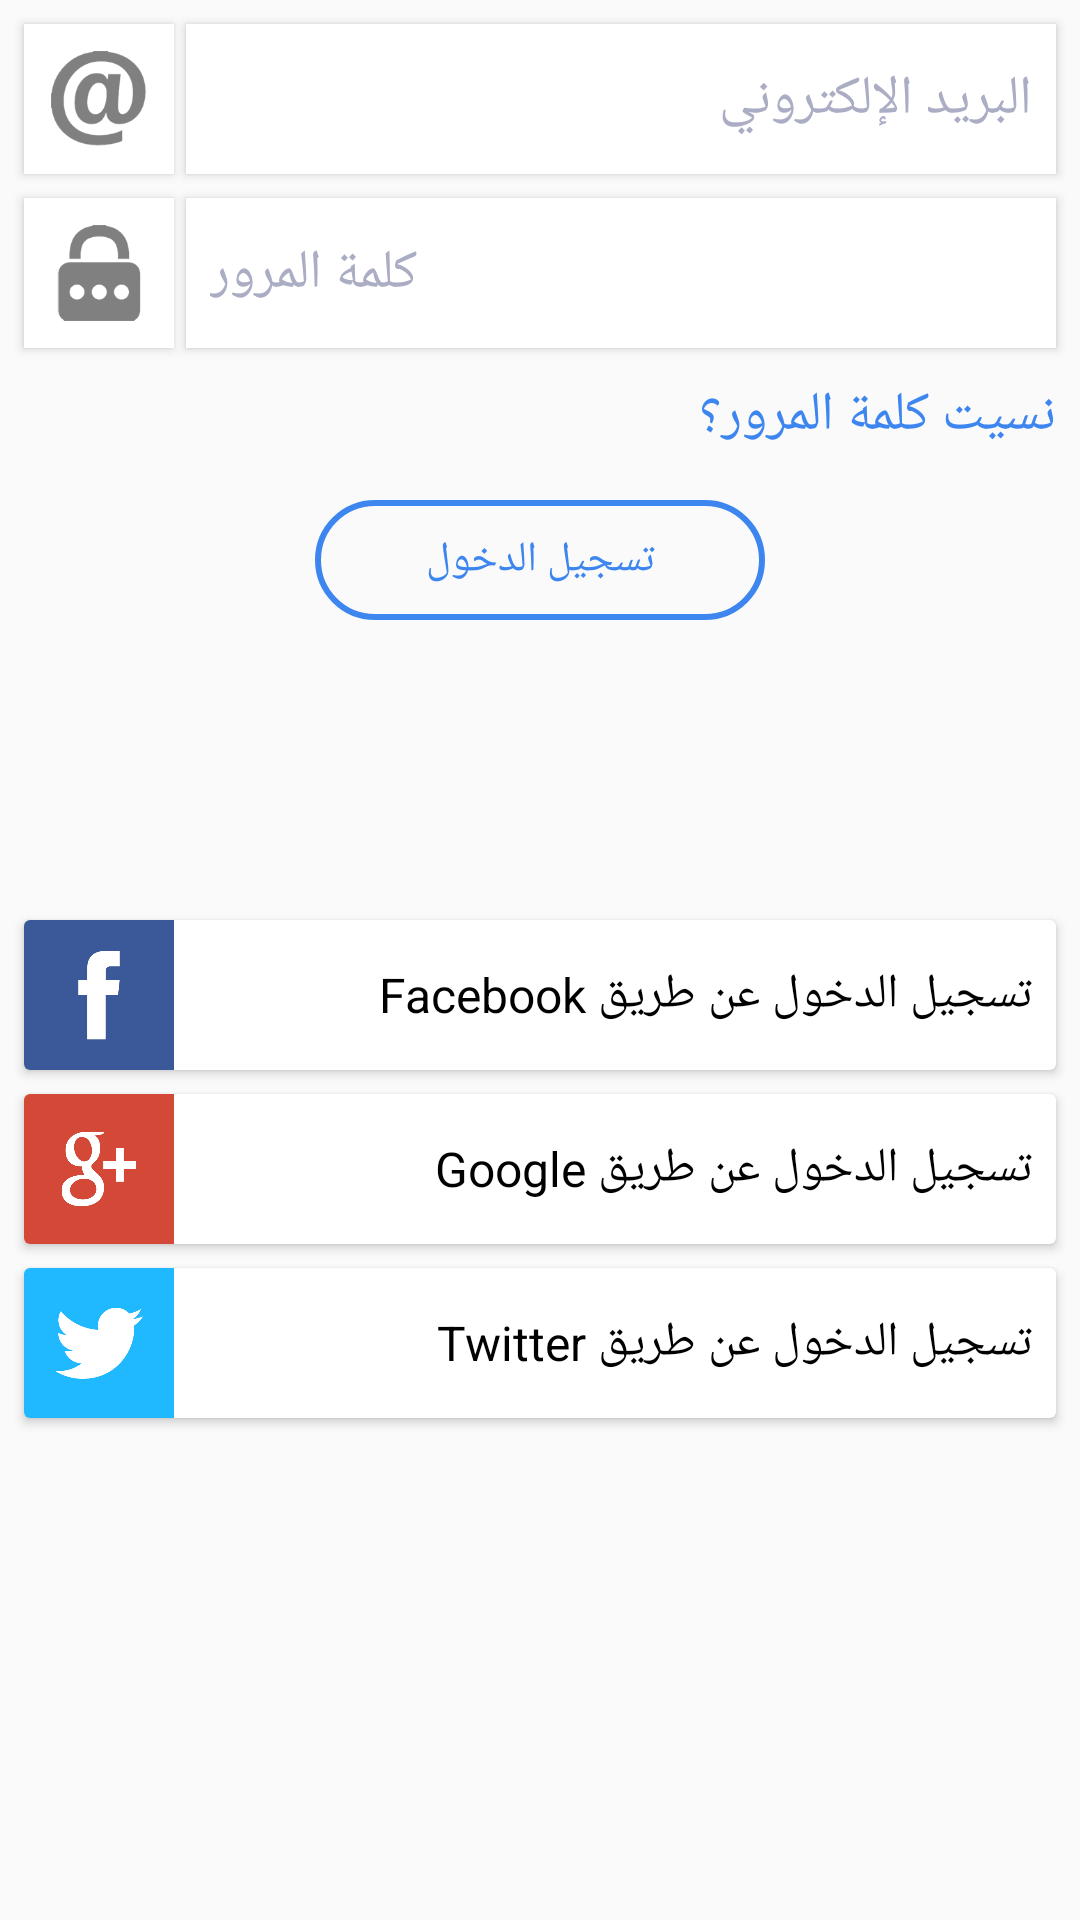

Named icons in this screenshot (1080 x 1920) and their centers, [x,y]:
email: [98,98]
password: [99,273]
